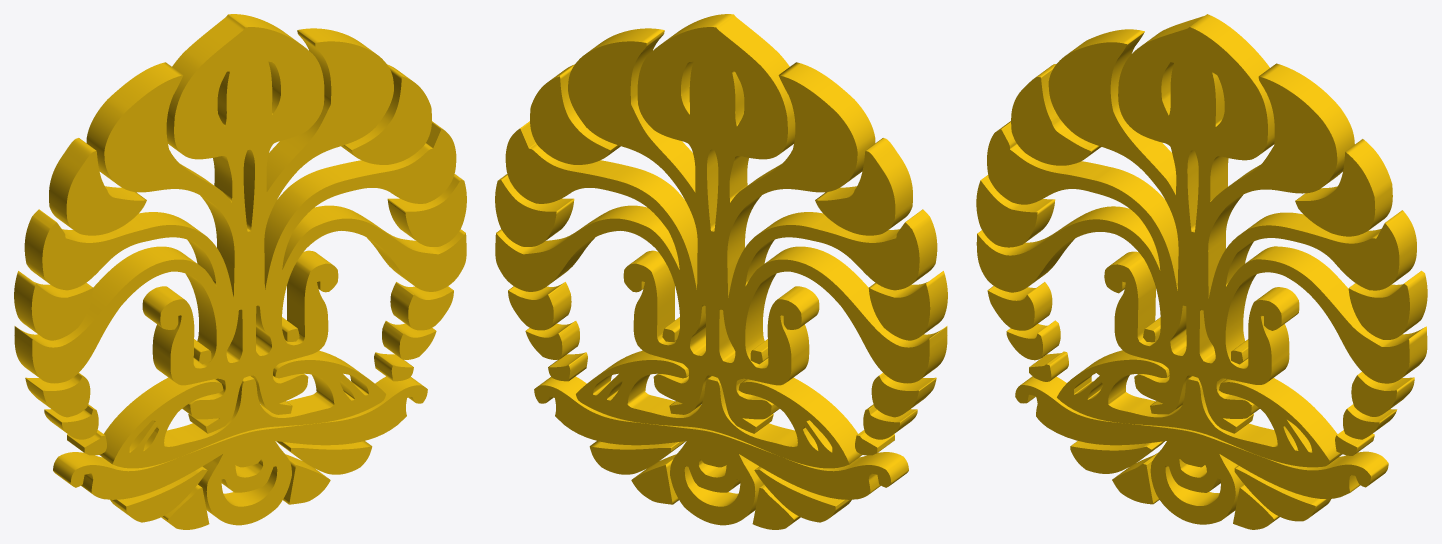
3 views of the same model, side by side, from view 1: azimuth 30°, elevation 25°; view 2: azimuth 150°, elevation 25°; view 3: azimuth 330°, elevation 25° (orthographic).
Visible parts, largest first — view 1: Curve; view 2: Curve; view 3: Curve.
Part boxes in pixels (x1,y1,x2,y2): Curve: [14, 14, 466, 529]; Curve: [495, 14, 947, 529]; Curve: [976, 14, 1427, 529].
Size of the model in its own units: 5.08 by 5.55 by 0.3586.
